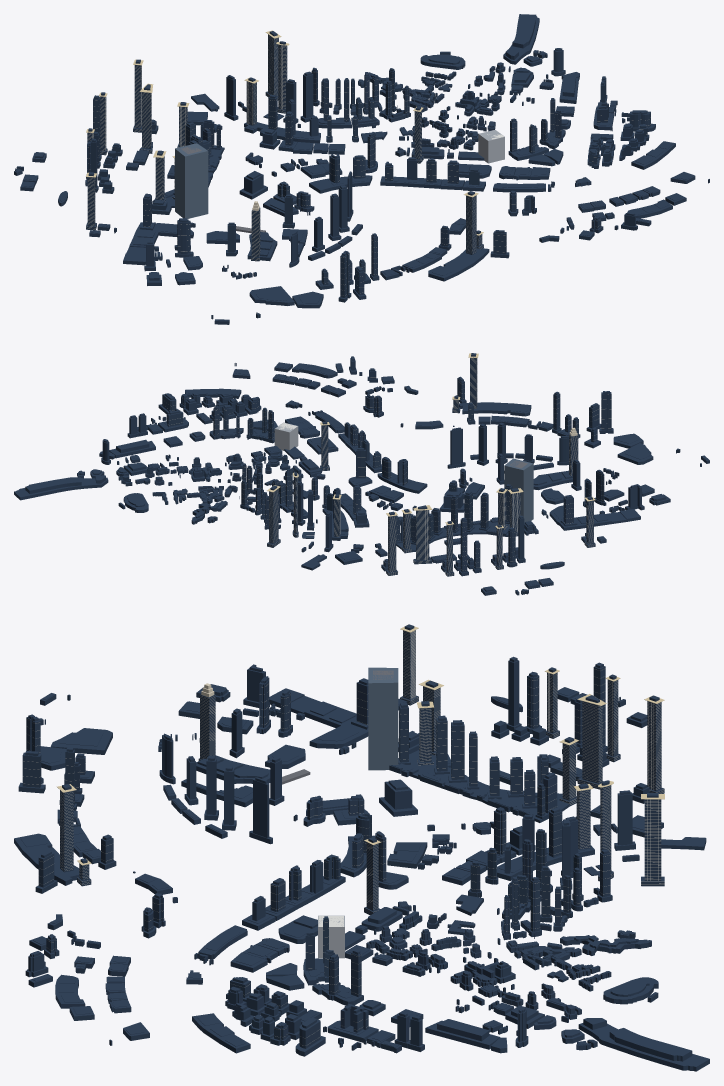
File: business-bay-all.glb
3 views of the same model, one above another, from view 1: azimuth 30°, elevation 25°; view 2: azimuth 150°, elevation 25°; view 3: azimuth 270°, elevation 25° (orthographic). The views are drawn at different scales.
Visible parts, largest first — view 1: vision_slab_-1, M_vision-tower, B_382096518_address-residences, B_1047612077_grande-signature-residences, M_ubora-tower-1, B_532853121_unnamed, B_1146969101_paramount-hotel-midtown, B_1047612078_opera-grand, B_532853111_unnamed, M_the-opus, B_47515674_فندق-العنوان-داون-تاون, B_203296254_millenium-tower (+8 smaller); view 2: B_382096518_address-residences, vision_slab_-1, B_1146969101_paramount-hotel-midtown, B_1047612077_grande-signature-residences, B_203296254_millenium-tower, B_1494150406_unnamed, B_532853111_unnamed, B_99570312_burj-views, B_532853121_unnamed, B_1329019329_bay-avenue-mall, B_1075959488_mable-arch-tower, B_532853132_falcon-tower (+6 smaller); view 3: M_vision-tower, B_382096518_address-residences, B_1146969101_paramount-hotel-midtown, B_1047612077_grande-signature-residences, B_1329019329_bay-avenue-mall, B_203296254_millenium-tower, B_99570312_burj-views, M_ubora-tower-1, B_532853121_unnamed, B_1494150406_unnamed, B_126601134_the-palace-downtown-dubai, B_47515674_فندق-العنوان-داون-تاون (+24 smaller).
Boxes of the visible parts, <box> form: vision_slab_-1: <box>175,146,196,218</box>; M_vision-tower: <box>186,143,208,216</box>; B_382096518_address-residences: <box>508,14,539,57</box>; B_1047612077_grande-signature-residences: <box>265,31,278,100</box>; M_ubora-tower-1: <box>464,191,477,255</box>; B_532853121_unnamed: <box>249,286,294,305</box>; B_1146969101_paramount-hotel-midtown: <box>139,84,152,153</box>; B_1047612078_opera-grand: <box>277,41,287,113</box>; B_532853111_unnamed: <box>443,248,489,274</box>; M_the-opus: <box>478,132,499,163</box>; B_47515674_فندق-العنوان-داون-تاون: <box>420,54,465,69</box>; B_203296254_millenium-tower: <box>133,59,141,132</box>; B_382096518_address-residences: <box>14,477,94,500</box>; vision_slab_-1: <box>514,461,533,522</box>; B_1146969101_paramount-hotel-midtown: <box>413,505,432,564</box>; B_1047612077_grande-signature-residences: <box>267,485,280,547</box>; B_203296254_millenium-tower: <box>386,511,397,575</box>; B_1494150406_unnamed: <box>447,427,465,468</box>; B_532853111_unnamed: <box>459,402,513,414</box>; B_99570312_burj-views: <box>109,439,155,458</box>; B_532853121_unnamed: <box>617,443,653,464</box>; B_1329019329_bay-avenue-mall: <box>396,520,517,553</box>; B_1075959488_mable-arch-tower: <box>599,391,613,433</box>; B_532853132_falcon-tower: <box>459,517,468,576</box>; M_vision-tower: <box>368,675,398,770</box>; B_382096518_address-residences: <box>592,1026,709,1071</box>; B_1146969101_paramount-hotel-midtown: <box>577,695,603,789</box>; B_1047612077_grande-signature-residences: <box>641,793,664,886</box>; B_1329019329_bay-avenue-mall: <box>389,750,576,822</box>; B_203296254_millenium-tower: <box>647,695,664,793</box>; B_99570312_burj-views: <box>425,1019,500,1049</box>; M_ubora-tower-1: <box>57,784,73,873</box>; B_532853121_unnamed: <box>50,728,112,754</box>; B_1494150406_unnamed: <box>249,777,272,844</box>; B_126601134_the-palace-downtown-dubai: <box>560,935,651,955</box>; B_47515674_فندق-العنوان-داون-تاون: <box>603,977,658,1004</box>.
Size of the model in its own units: 2443 by 288 by 1881.
